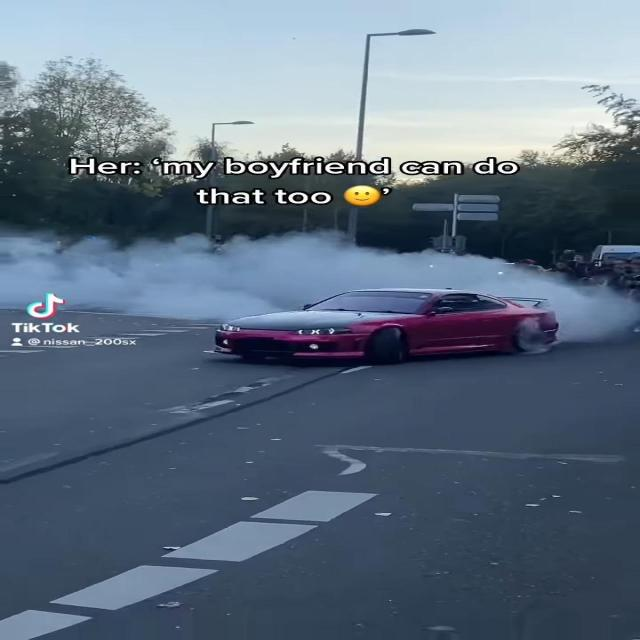vehicle: (218, 288, 562, 368)
